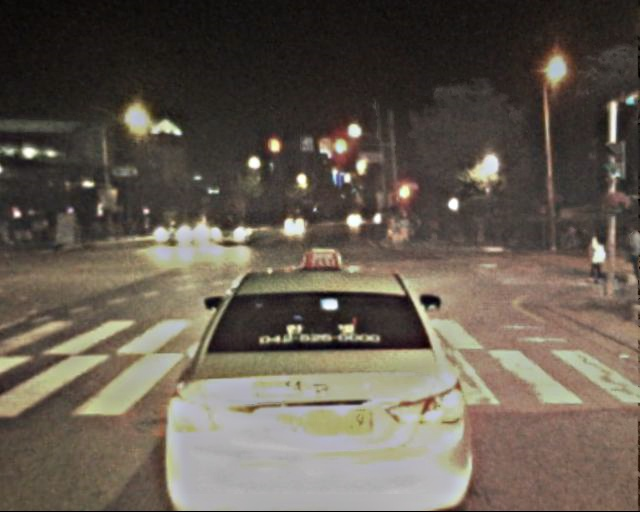person: (581, 226, 606, 287), (622, 227, 640, 283), (409, 218, 443, 245), (1, 213, 21, 243)
